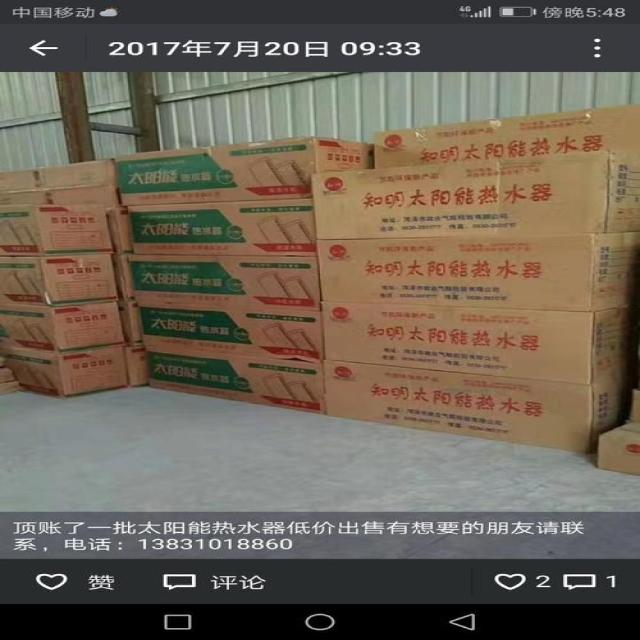box: (310, 150, 640, 239), (325, 361, 639, 454), (321, 302, 640, 385), (319, 232, 640, 312), (115, 136, 375, 207), (374, 103, 640, 168), (145, 346, 326, 415), (138, 301, 324, 364), (128, 199, 319, 256), (129, 254, 320, 310), (0, 345, 127, 398), (0, 302, 125, 354), (0, 202, 114, 256), (0, 254, 118, 306), (0, 158, 120, 207), (596, 421, 640, 476), (106, 207, 132, 255), (118, 302, 143, 346), (113, 255, 136, 301), (125, 346, 148, 387), (0, 366, 17, 383), (0, 381, 19, 396), (632, 389, 640, 422)
